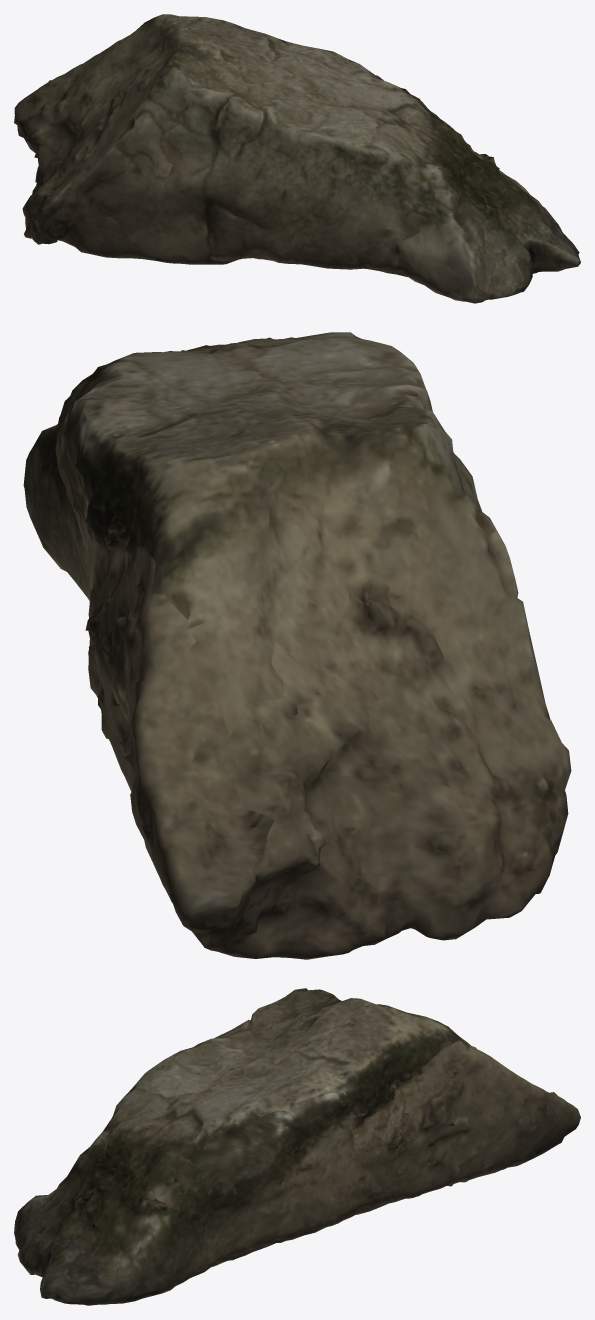
File: B_Rock_02.fbx
3 renders of one model, top to bottom at view 1: azimuth 30°, elevation 25°; view 2: azimuth 150°, elevation 25°; view 3: azimuth 270°, elevation 25°, orthographic. The views are drawn at different scales.
Parts seen in each view (by area): view 1: B_Rock_02_LOD0; view 2: B_Rock_02_LOD0; view 3: B_Rock_02_LOD0.
Part boxes in pixels (x1,y1,x2,y2): B_Rock_02_LOD0: [14, 14, 580, 303]; B_Rock_02_LOD0: [23, 332, 571, 959]; B_Rock_02_LOD0: [14, 988, 580, 1305].
Size of what is drawn, in the model's own units: 2.77 by 1.31 by 3.4.
